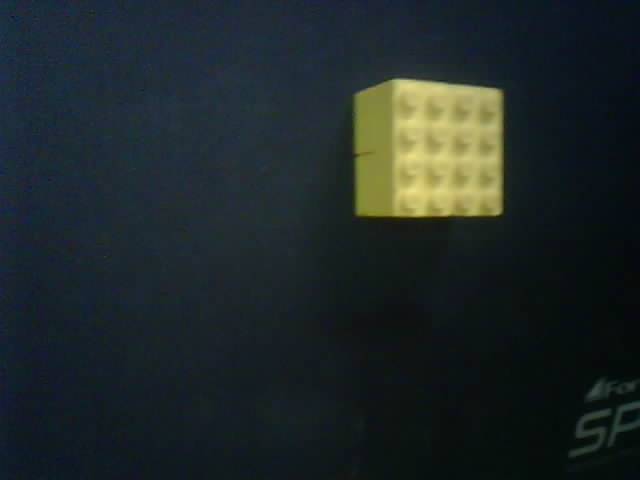lego: (352, 77, 505, 219)
